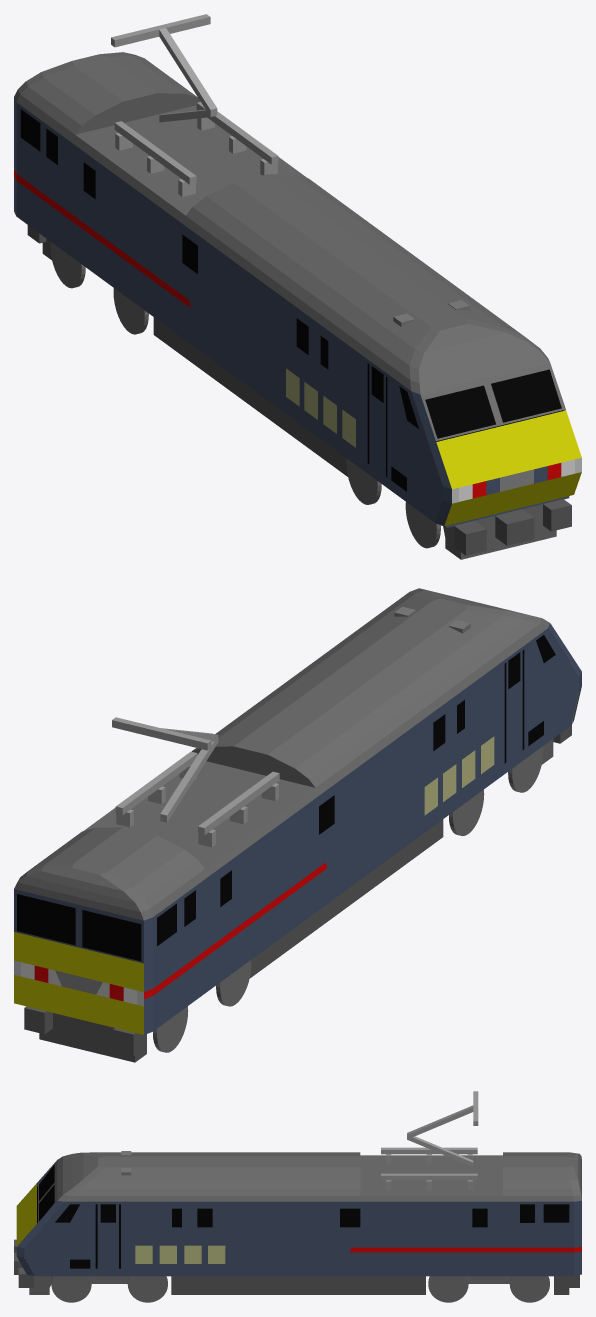
Rendered from br-cl91-gner.dae.
3 renders of one model, top to bottom at view 1: azimuth 30°, elevation 25°; view 2: azimuth 150°, elevation 25°; view 3: azimuth 270°, elevation 25°, orthographic. The views are drawn at different scales.
Visible parts, largest first — view 1: Plane_019, Plane_064, Plane_001, Plane_027, Plane_030, Plane_014, Plane_052, Cube_033, Plane_068, Plane_015, Plane_070, Plane_069 (+18 smaller); view 2: Plane_019, Plane_064, Plane_027, Plane_001, Plane_030, Plane_053, Plane_031, Plane_034, Cube_033, Plane_068, Plane_070, Plane_069 (+19 smaller); view 3: Plane_019, Plane_020, Plane_096, Plane_001, Plane_030, Cube_033, Plane_023, Plane_099, Plane_003, Plane_007, Plane, Plane_098 (+31 smaller).
Boxes of the visible parts, left/top/right/bottom form: Plane_019: left=14, top=52, right=448, bottom=332; Plane_064: left=16, top=103, right=360, bottom=417; Plane_001: left=331, top=266, right=550, bottom=394; Plane_027: left=16, top=181, right=387, bottom=487; Plane_030: left=75, top=105, right=306, bottom=215; Plane_014: left=436, top=410, right=581, bottom=489; Plane_052: left=425, top=369, right=562, bottom=441; Cube_033: left=153, top=317, right=347, bottom=476; Plane_068: left=16, top=167, right=442, bottom=485; Plane_015: left=444, top=472, right=581, bottom=526; Plane_070: left=16, top=174, right=364, bottom=435; Plane_069: left=348, top=381, right=439, bottom=475; Plane_019: left=14, top=647, right=468, bottom=920; Plane_064: left=153, top=686, right=496, bottom=980; Plane_027: left=153, top=722, right=523, bottom=1030; Plane_001: left=334, top=588, right=550, bottom=685; Plane_030: left=84, top=761, right=314, bottom=868; Plane_053: left=17, top=894, right=141, bottom=961; Plane_031: left=14, top=932, right=143, bottom=991; Plane_034: left=14, top=975, right=143, bottom=1034; Cube_033: left=249, top=819, right=443, bottom=978; Plane_068: left=153, top=672, right=578, bottom=987; Plane_070: left=153, top=736, right=501, bottom=995; Plane_069: left=484, top=652, right=575, bottom=729; Plane_019: left=167, top=1152, right=581, bottom=1201; Plane_020: left=131, top=1206, right=476, bottom=1243; Plane_096: left=95, top=1247, right=436, bottom=1275; Plane_001: left=57, top=1152, right=197, bottom=1201; Plane_030: left=360, top=1155, right=502, bottom=1195; Cube_033: left=171, top=1276, right=425, bottom=1294; Plane_023: left=416, top=1252, right=574, bottom=1275; Plane_099: left=445, top=1201, right=574, bottom=1243; Plane_003: left=25, top=1243, right=574, bottom=1247; Plane_007: left=125, top=1247, right=574, bottom=1252; Plane: left=29, top=1224, right=145, bottom=1243; Plane_098: left=163, top=1201, right=480, bottom=1206.
Bounding box in the file's own units: 2.03 × 11.15 × 3.87.
